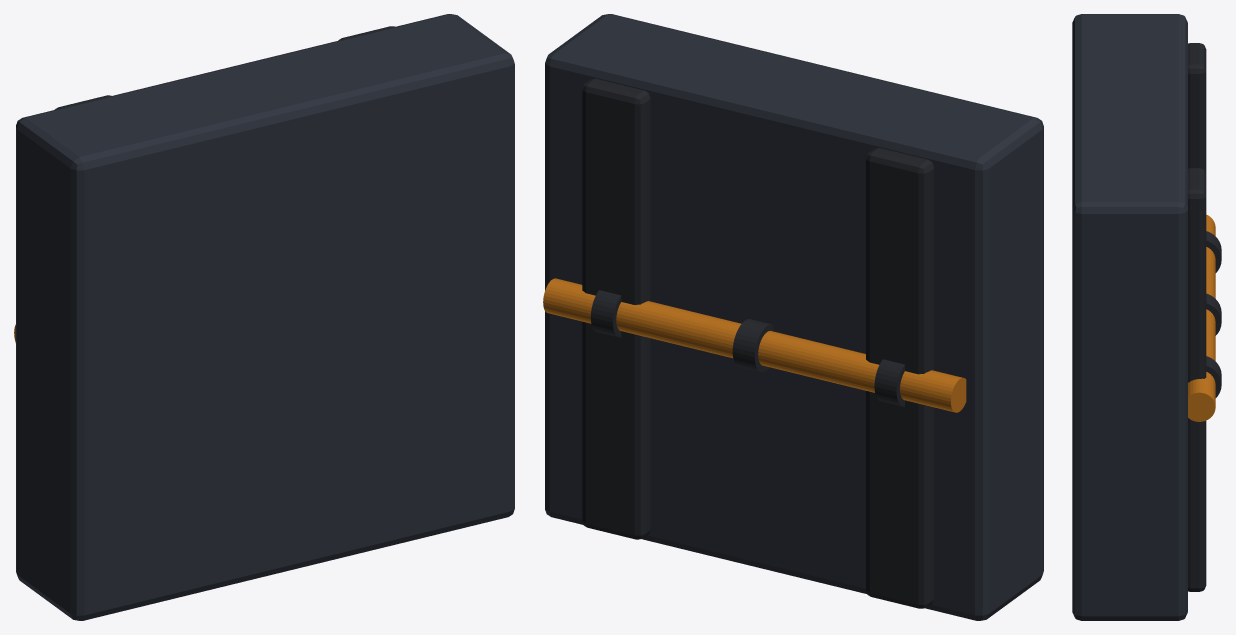
Rendered from station_wall_module.obj.
3 renders of one model, left to right at view 1: azimuth 30°, elevation 25°; view 2: azimuth 150°, elevation 25°; view 3: azimuth 270°, elevation 25°, orthographic. The views are drawn at different scales.
Parts seen in each view (by area): view 1: station_wall_module; view 2: station_wall_module; view 3: station_wall_module.
Boxes of the visible parts, box(x1,y1,x2,y2) form: station_wall_module: box(14, 14, 514, 620); station_wall_module: box(543, 14, 1043, 620); station_wall_module: box(1072, 14, 1221, 620).
Size of the model in its own units: 1 by 1 by 0.323.
